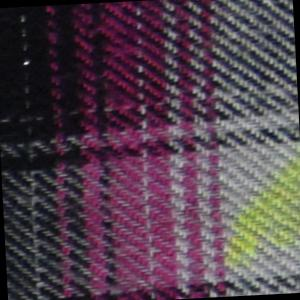Stain: (215, 152, 300, 281)
